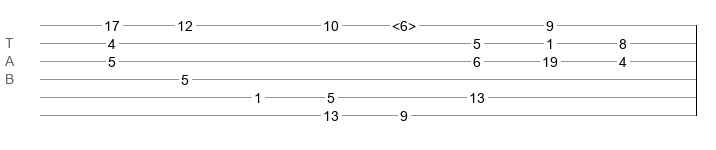1: (254, 90, 262, 100), (546, 36, 554, 46)
10: (323, 18, 339, 28)
12: (177, 18, 193, 28)
13: (323, 108, 339, 118), (469, 90, 485, 100)
17: (104, 18, 120, 28)
19: (542, 54, 558, 64)
4: (108, 36, 116, 46), (619, 54, 627, 64)
5: (108, 54, 116, 64), (181, 72, 189, 82), (327, 90, 335, 100), (473, 36, 481, 46)
6: (473, 54, 481, 64)
8: (619, 36, 627, 46)
9: (400, 108, 408, 118), (546, 18, 554, 28)
harmonic: (392, 18, 416, 28)
